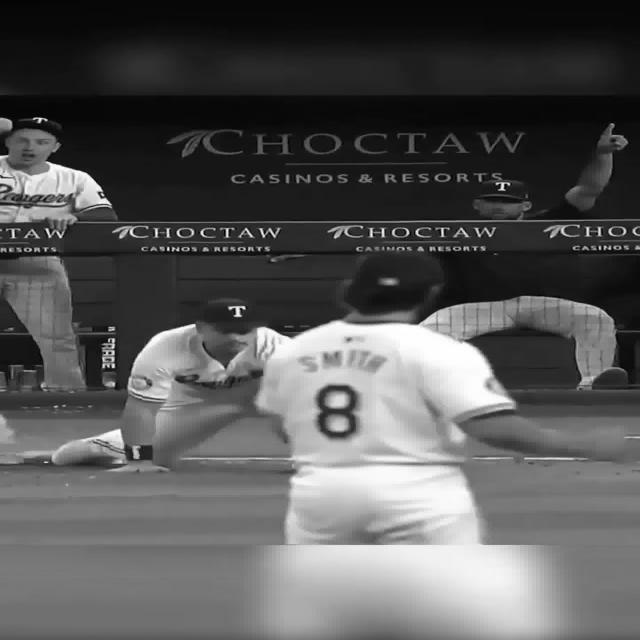base: (0, 451, 53, 465)
shoe: (51, 429, 127, 465)
